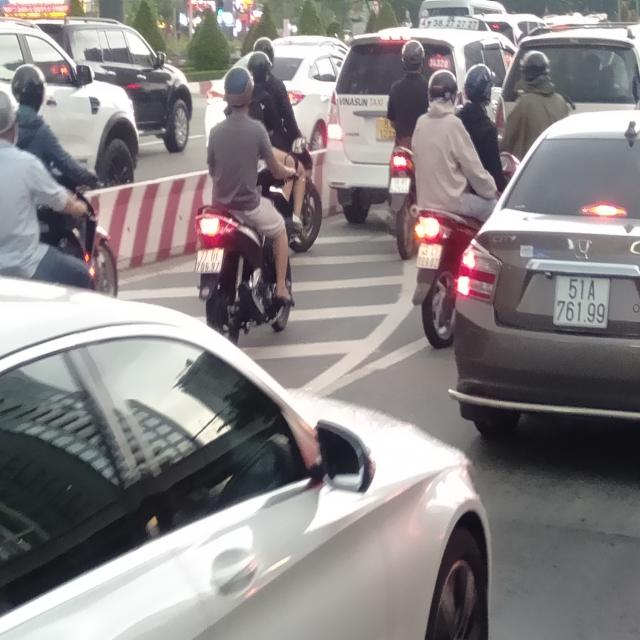bien_trang: (552, 274, 610, 329), (196, 246, 224, 278)
